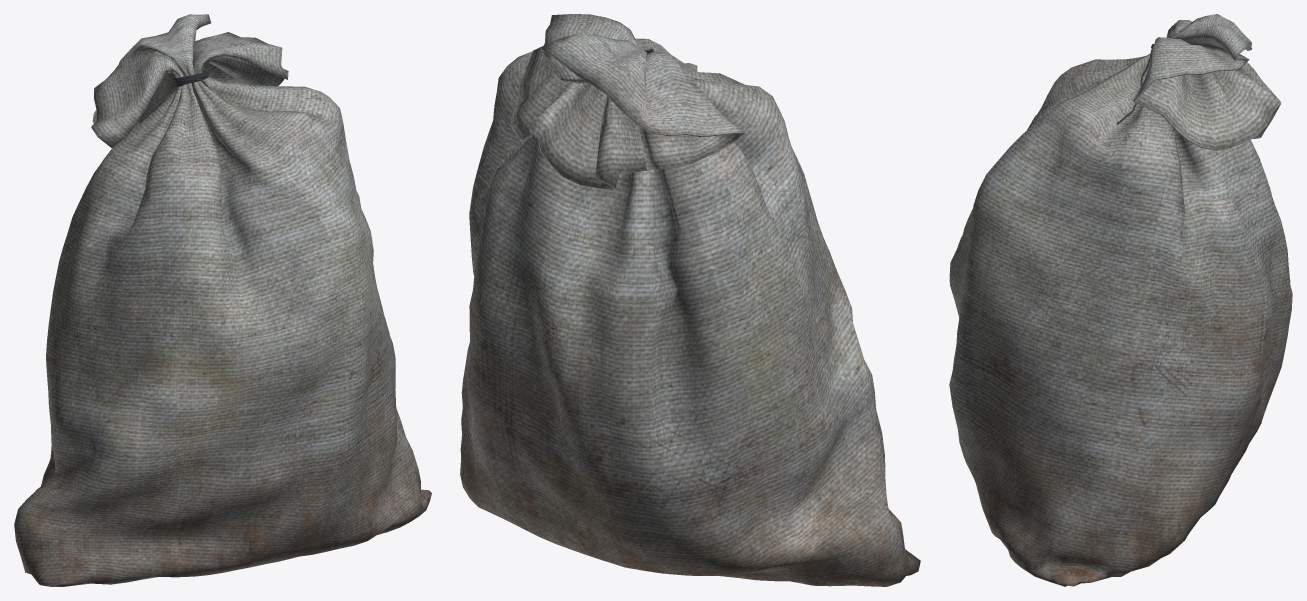
The model's file is divided-wheat-sack.glb.
3 views of the same model, side by side, from view 1: azimuth 30°, elevation 25°; view 2: azimuth 150°, elevation 25°; view 3: azimuth 270°, elevation 25° (orthographic). The views are drawn at different scales.
Visible parts, largest first — view 1: sack; view 2: sack; view 3: sack.
Part boxes in pixels (x1,y1,x2,y2): sack: (14, 14, 431, 586); sack: (460, 14, 920, 586); sack: (949, 14, 1292, 586).
Bounding box in the file's own units: 0.6787 × 0.7756 × 0.5056.
1 material, 1 textured.
